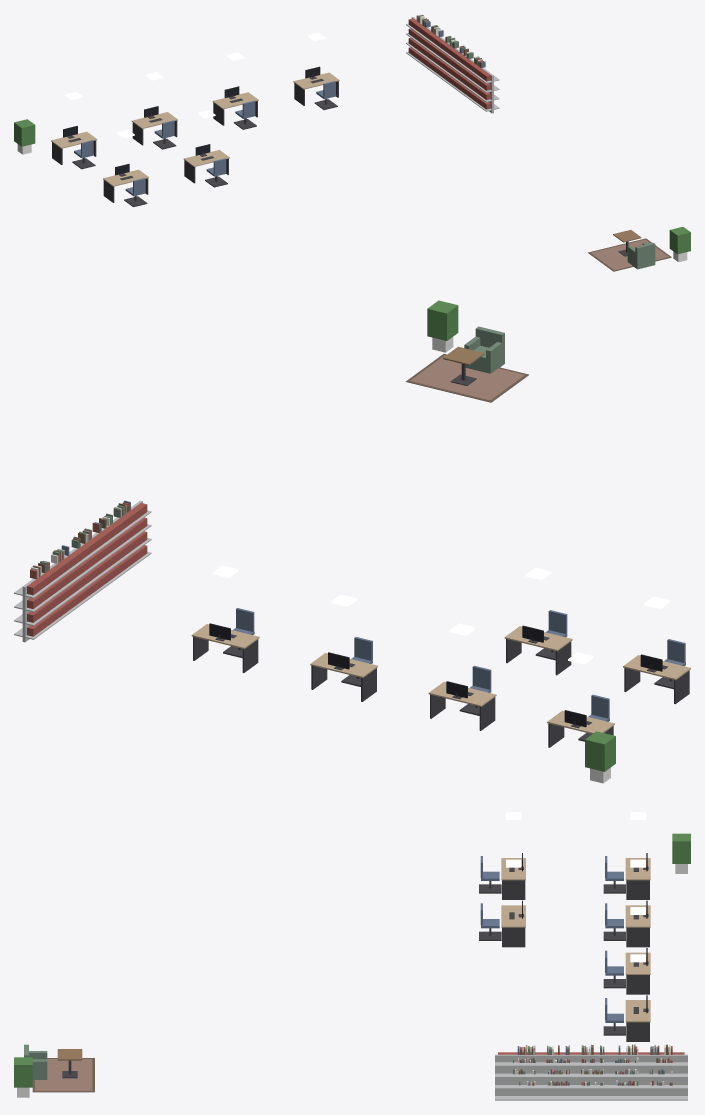
The model's file is fine-s4.glb.
3 views of the same model, one above another, from view 1: azimuth 30°, elevation 25°; view 2: azimuth 150°, elevation 25°; view 3: azimuth 270°, elevation 25° (orthographic). The views are drawn at different scales.
Parts seen in each view (by area): view 1: soft-s4, shelving.029, shelving.025, office-desk-real.022, office-desk-real.019, office-desk-real.023, office-desk-real.020, office-desk-real.018, office-desk-real.021, shelving.028, shelving.026, shelving.027 (+9 smaller); view 2: soft-s4, shelving.025, shelving.026, shelving.028, shelving.029, office-desk-real.019, office-desk-real.021, office-desk-real.022, office-desk-real.020, office-desk-real.023, plant-medium.006, sofa.003 (+3 smaller); view 3: soft-s4, shelving.025, shelving.029, shelving.026, shelving.027, shelving.028, office-desk-real.021, office-desk-real.023, office-desk-real.020, office-desk-real.019, office-desk-real.018, office-desk-real.022 (+10 smaller).
Boxes of the visible parts, x1,y1,x2,y2 form: soft-s4: [416, 14, 671, 271]; shelving.029: [463, 59, 499, 113]; shelving.025: [406, 17, 433, 69]; office-desk-real.022: [103, 164, 148, 202]; office-desk-real.019: [131, 106, 177, 145]; office-desk-real.023: [183, 144, 229, 183]; office-desk-real.020: [212, 86, 258, 125]; office-desk-real.018: [51, 126, 97, 164]; office-desk-real.021: [293, 66, 339, 105]; shelving.028: [448, 48, 475, 100]; shelving.026: [420, 28, 449, 79]; shelving.027: [434, 38, 463, 90]; soft-s4: [30, 354, 528, 579]; shelving.025: [14, 563, 67, 642]; shelving.026: [48, 548, 88, 623]; shelving.028: [90, 517, 126, 593]; shelving.029: [110, 500, 151, 578]; office-desk-real.019: [428, 681, 496, 730]; office-desk-real.021: [191, 623, 259, 672]; office-desk-real.022: [623, 654, 690, 704]; office-desk-real.020: [310, 652, 377, 701]; office-desk-real.023: [504, 625, 572, 675]; plant-medium.006: [427, 300, 458, 352]; sofa.003: [464, 326, 504, 373]; soft-s4: [32, 1044, 672, 1092]; shelving.025: [632, 1052, 687, 1100]; shelving.029: [495, 1052, 550, 1100]; shelving.026: [597, 1052, 653, 1100]; shelving.027: [563, 1052, 619, 1100]; shelving.028: [529, 1052, 585, 1100]; office-desk-real.021: [625, 995, 650, 1041]; office-desk-real.023: [501, 900, 525, 947]; office-desk-real.020: [625, 948, 650, 994]; office-desk-real.019: [625, 900, 650, 947]; office-desk-real.018: [625, 853, 650, 899]; office-desk-real.022: [501, 853, 525, 899].
Bounding box in the file's own units: 18.01 × 2.64 × 21.76.
